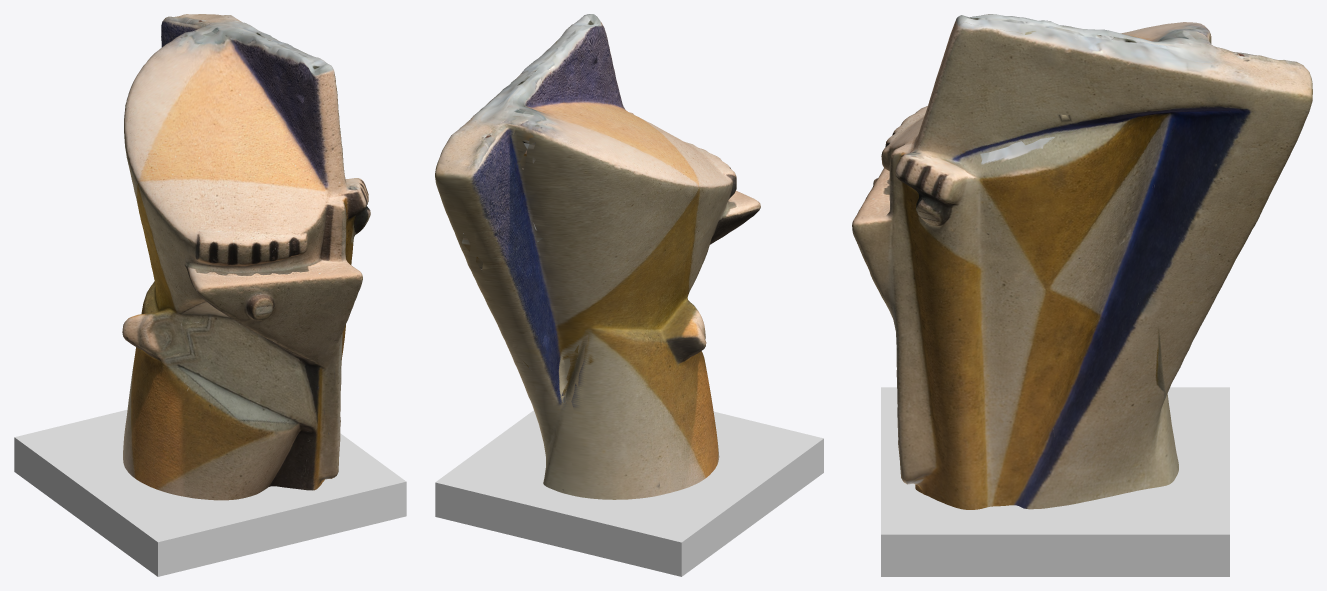
File: tete-henri-laurens.glb
The picture shows the model from 3 angles, left to right: view 1: azimuth 30°, elevation 25°; view 2: azimuth 150°, elevation 25°; view 3: azimuth 270°, elevation 25°; orthographic projection. The views are drawn at different scales.
Parts seen in each view (by area): view 1: tete, Cube; view 2: tete, Cube; view 3: tete, Cube.
Part boxes in pixels (left/top/right/bottom): tete: left=122, top=14, right=370, bottom=500; Cube: left=14, top=409, right=406, bottom=576; tete: left=435, top=14, right=760, bottom=499; Cube: left=435, top=410, right=823, bottom=576; tete: left=852, top=14, right=1312, bottom=509; Cube: left=881, top=387, right=1229, bottom=576.
Size of the model in its own units: 3 by 5.05 by 3.96.
2 materials, 1 textured.
